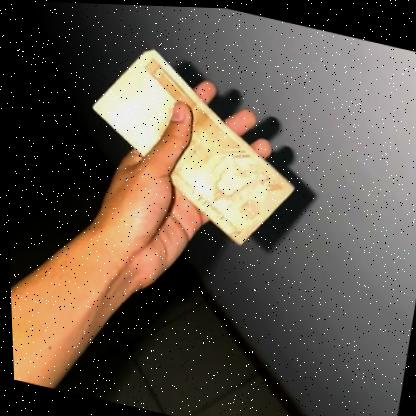twenty-back-vef: (67, 34, 317, 256)
